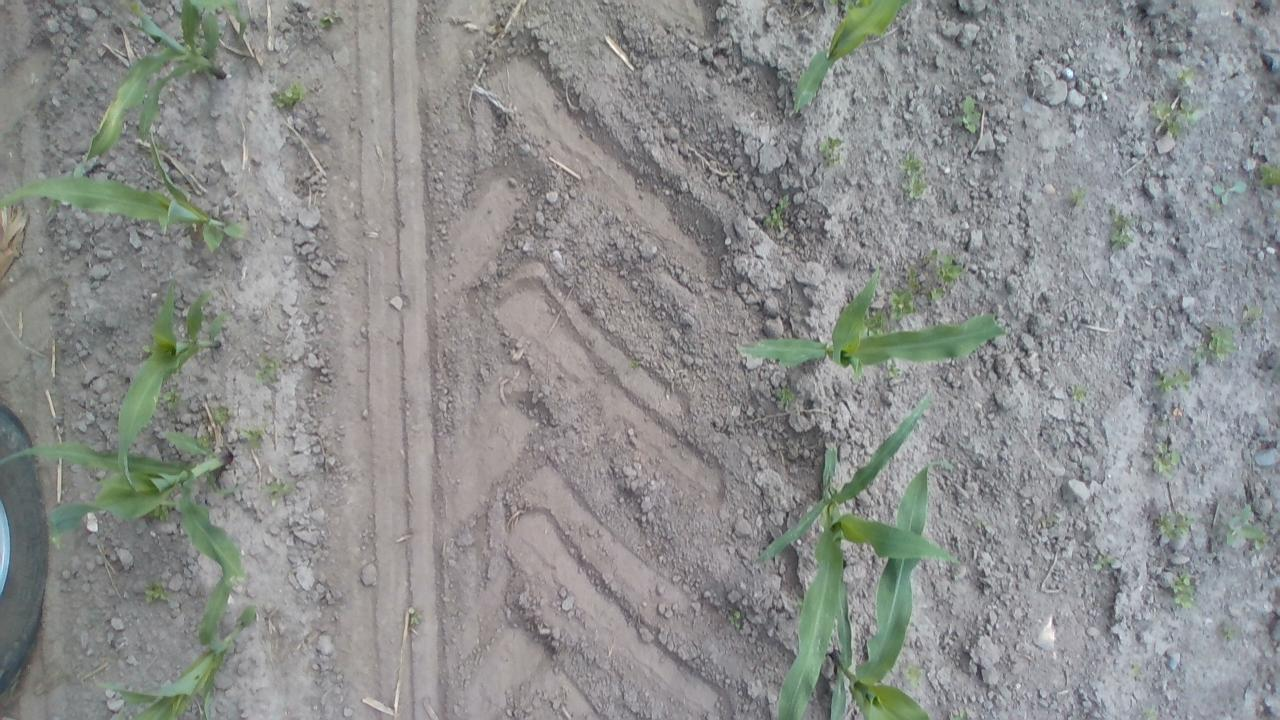Maize: (751, 384, 962, 720), (28, 419, 255, 584), (818, 460, 952, 720), (734, 258, 1012, 378), (0, 126, 251, 253), (80, 0, 256, 162), (111, 542, 268, 720), (108, 280, 241, 486), (791, 0, 908, 118)
Weeds: (881, 252, 965, 320), (1218, 502, 1272, 553), (1188, 322, 1241, 366), (1147, 98, 1193, 142), (894, 150, 930, 202), (1148, 506, 1198, 543), (1104, 208, 1142, 252), (1148, 364, 1197, 398), (1147, 438, 1185, 481), (1206, 170, 1246, 208), (1169, 568, 1199, 616), (759, 192, 795, 230), (949, 95, 984, 133), (252, 351, 292, 383), (816, 130, 850, 166), (272, 80, 312, 109), (138, 576, 172, 610), (264, 476, 300, 505), (1254, 156, 1280, 192), (859, 306, 892, 332), (1172, 63, 1201, 92), (942, 699, 982, 720), (1092, 544, 1114, 580), (238, 425, 269, 450), (160, 385, 186, 411), (1068, 379, 1094, 405), (210, 404, 237, 429), (898, 665, 926, 689), (1064, 182, 1088, 209), (311, 9, 344, 28), (1216, 619, 1240, 645), (883, 359, 907, 385), (1129, 662, 1153, 686), (728, 608, 751, 633), (1236, 302, 1264, 322), (772, 386, 798, 407), (152, 498, 172, 523), (407, 603, 425, 630), (1138, 703, 1160, 720)
